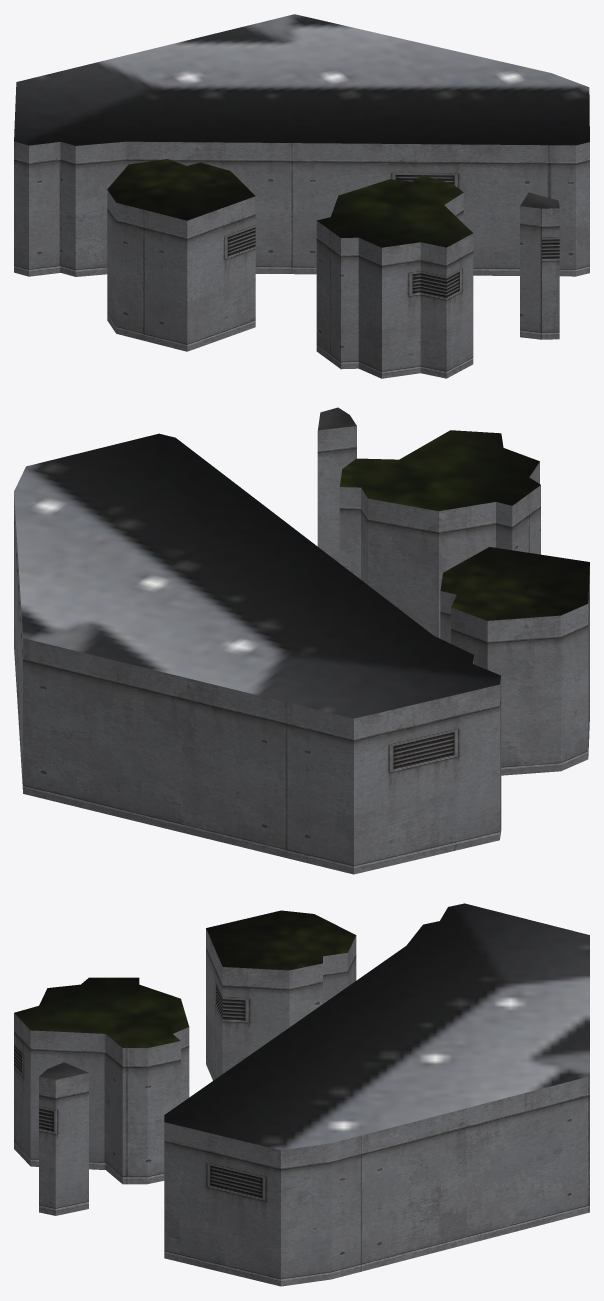
File: BuildingSystem-03-Advance-02-Medium-3-40-02.glb
The picture shows the model from 3 angles, top to bottom: view 1: azimuth 30°, elevation 25°; view 2: azimuth 150°, elevation 25°; view 3: azimuth 270°, elevation 25°; orthographic projection. The views are drawn at different scales.
Visible parts, largest first — view 1: buildings/saxarba/SMV_Buildings/BuildingSystem-03-Advance-02; view 2: buildings/saxarba/SMV_Buildings/BuildingSystem-03-Advance-02; view 3: buildings/saxarba/SMV_Buildings/BuildingSystem-03-Advance-02.
Part boxes in pixels (x1,y1,x2,y2): buildings/saxarba/SMV_Buildings/BuildingSystem-03-Advance-02: (14, 14, 589, 378); buildings/saxarba/SMV_Buildings/BuildingSystem-03-Advance-02: (14, 407, 589, 874); buildings/saxarba/SMV_Buildings/BuildingSystem-03-Advance-02: (14, 903, 589, 1286).
Size of the model in its own units: 70 by 18 by 69.
